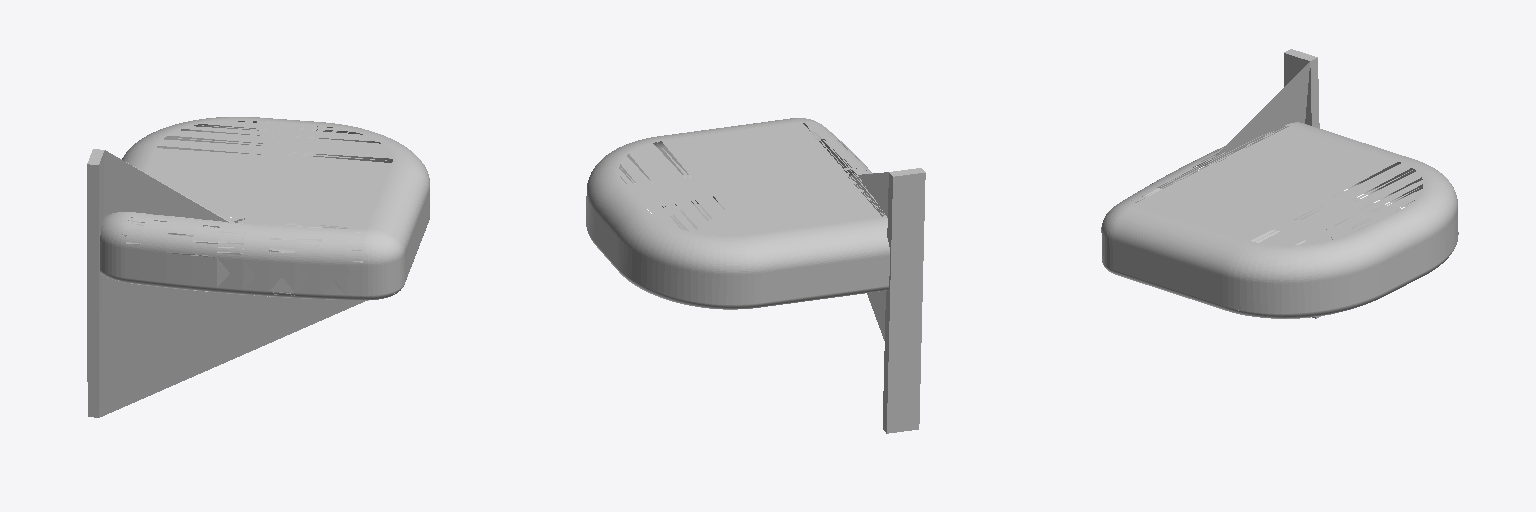
The picture shows the model from 3 angles: view 1: azimuth 30°, elevation 25°; view 2: azimuth 150°, elevation 25°; view 3: azimuth 270°, elevation 25°; orthographic projection.
Parts seen in each view (by area): view 1: Screenshot 2024-07-16 at 5.19.26 PM, *2, Hammered Metal; view 2: Screenshot 2024-07-16 at 5.19.26 PM, Metal bronze, *2; view 3: Screenshot 2024-07-16 at 5.19.26 PM, *2, Metal bronze.
Part boxes in pixels (left/top/right/bottom): Screenshot 2024-07-16 at 5.19.26 PM: left=100, top=117, right=429, bottom=300; *2: left=99, top=150, right=425, bottom=417; Hammered Metal: left=87, top=149, right=104, bottom=417; Screenshot 2024-07-16 at 5.19.26 PM: left=586, top=118, right=889, bottom=309; Metal bronze: left=883, top=173, right=925, bottom=433; *2: left=650, top=172, right=918, bottom=433; Screenshot 2024-07-16 at 5.19.26 PM: left=1101, top=122, right=1458, bottom=318; *2: left=1114, top=53, right=1318, bottom=317; Metal bronze: left=1284, top=53, right=1320, bottom=318.
Size of the model in its own units: 27.09 by 20.33 by 25.65.